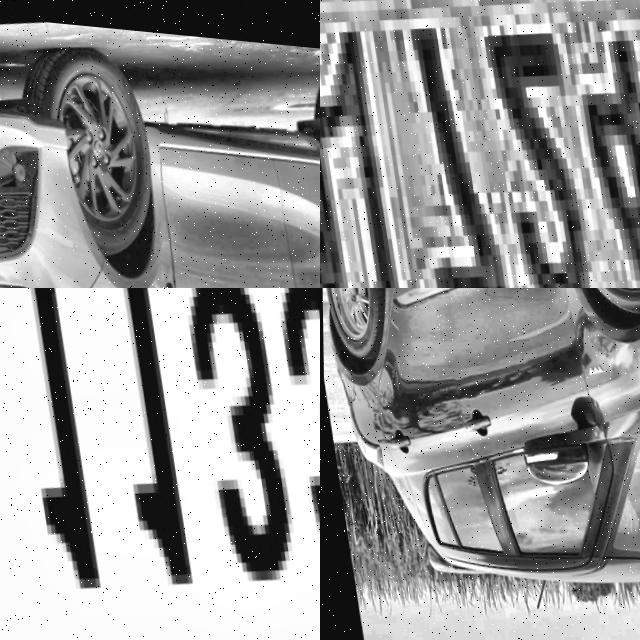license-plate: (0, 288, 320, 640), (320, 0, 640, 288)
